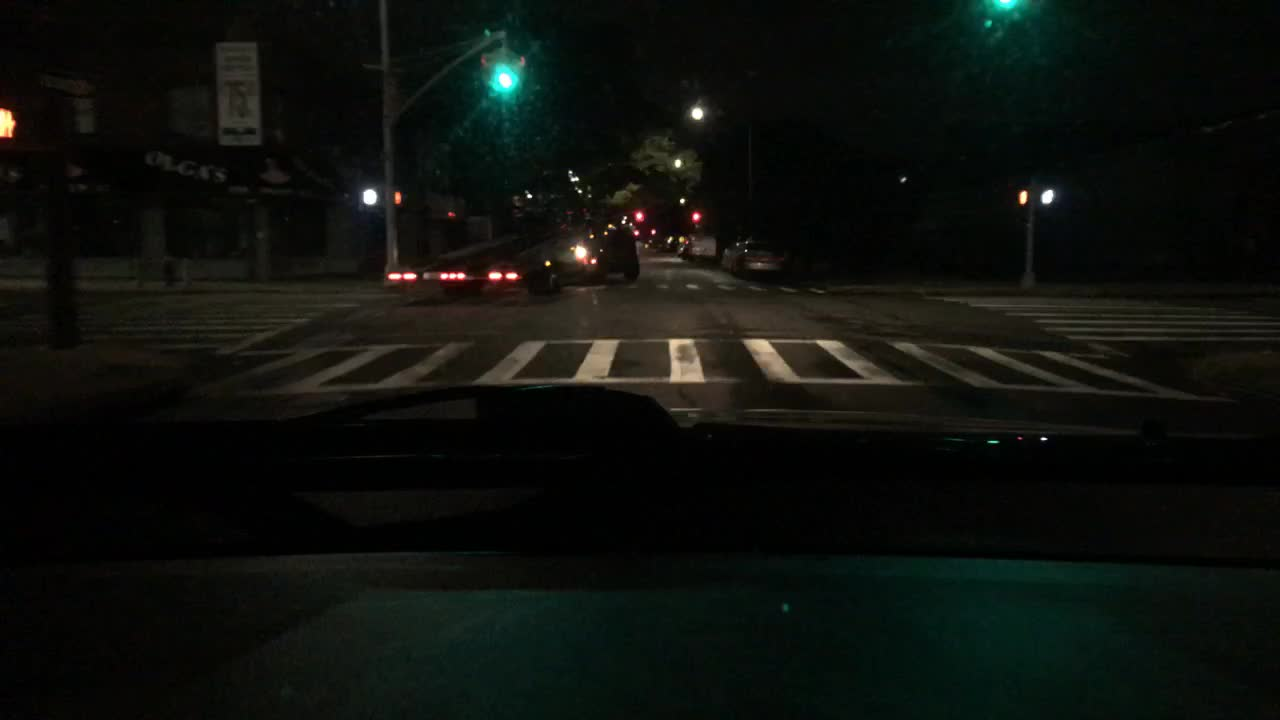car: (437, 244, 563, 301), (562, 223, 638, 280), (731, 238, 787, 280), (678, 232, 717, 262), (721, 237, 743, 269), (642, 229, 661, 248), (661, 233, 675, 252)
traffic light: (494, 47, 512, 96), (479, 48, 494, 93), (0, 110, 20, 142), (359, 182, 381, 210), (1038, 180, 1060, 207), (512, 52, 526, 93), (990, 0, 1023, 17), (1015, 182, 1029, 209), (391, 184, 405, 209), (632, 199, 645, 222), (691, 204, 703, 227)
traffic sign: (214, 41, 262, 149), (37, 66, 101, 98)
